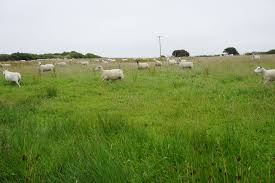sheep: (94, 64, 123, 86), (251, 65, 275, 85), (35, 59, 58, 77), (2, 69, 23, 88), (137, 58, 152, 73), (177, 59, 194, 72), (165, 55, 180, 68), (151, 58, 163, 69)
